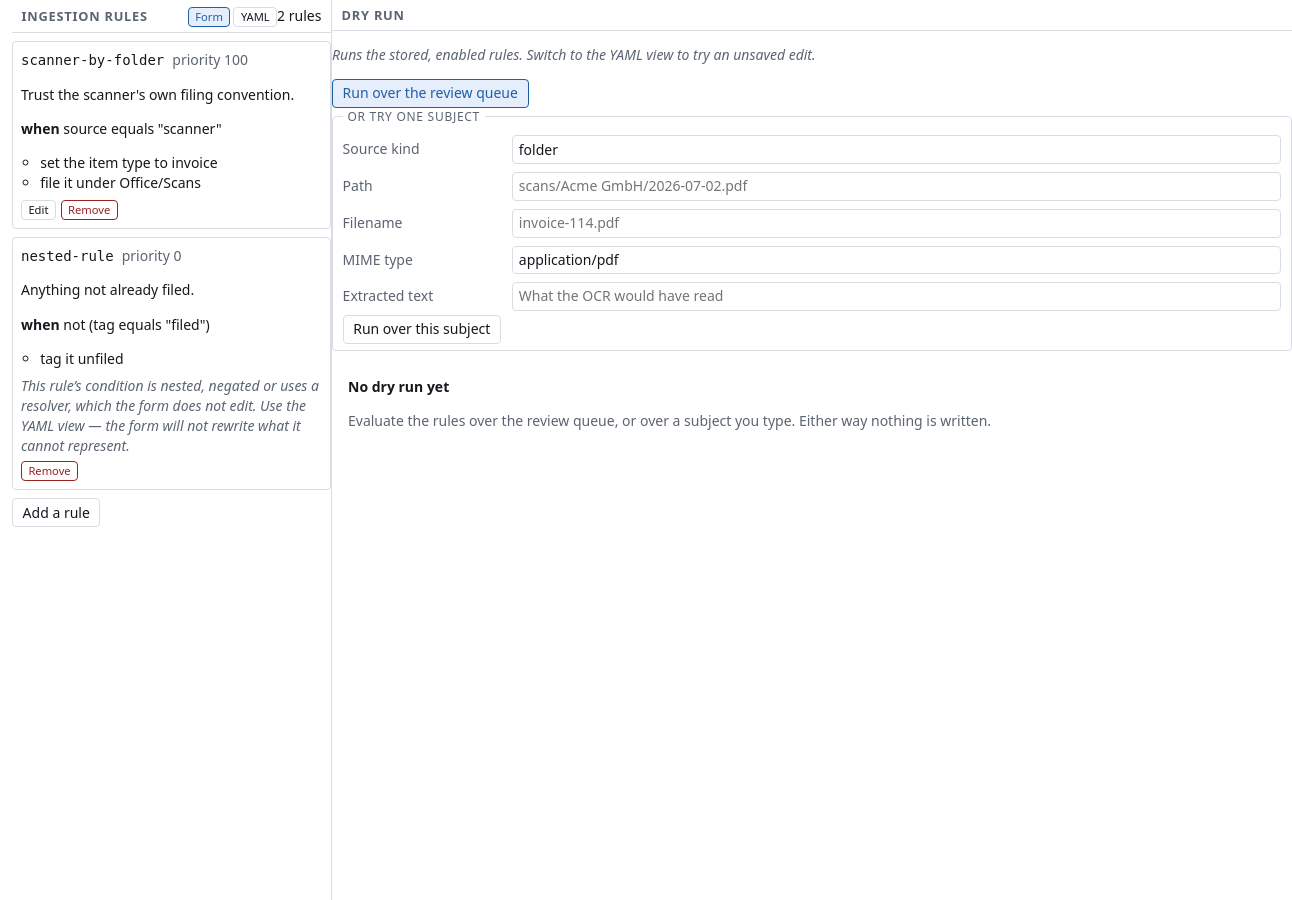
Scenario: the rules editor › renders the table as one document, and reports it as valid against the engine’s schema
Click the tab "YAML" at (255, 17), box x1=234 y1=7 x2=277 y2=27
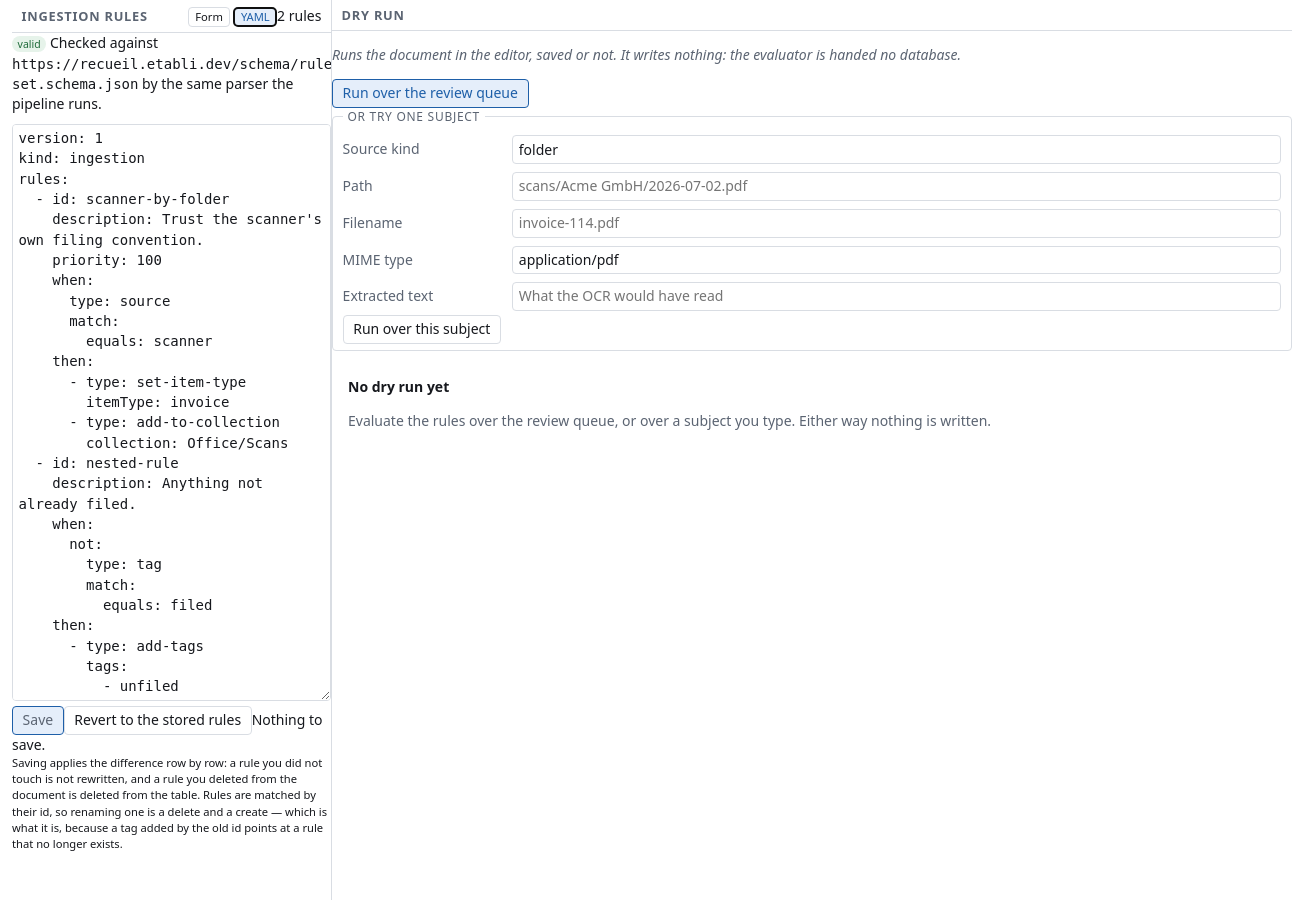
Expected: the message with test id "rules-valid" shows "valid", x1=18 y1=37 x2=41 y2=51
Expected: the message with test id "rules-valid" shows "rule-set.schema.json", x1=12 y1=56 x2=331 y2=92
